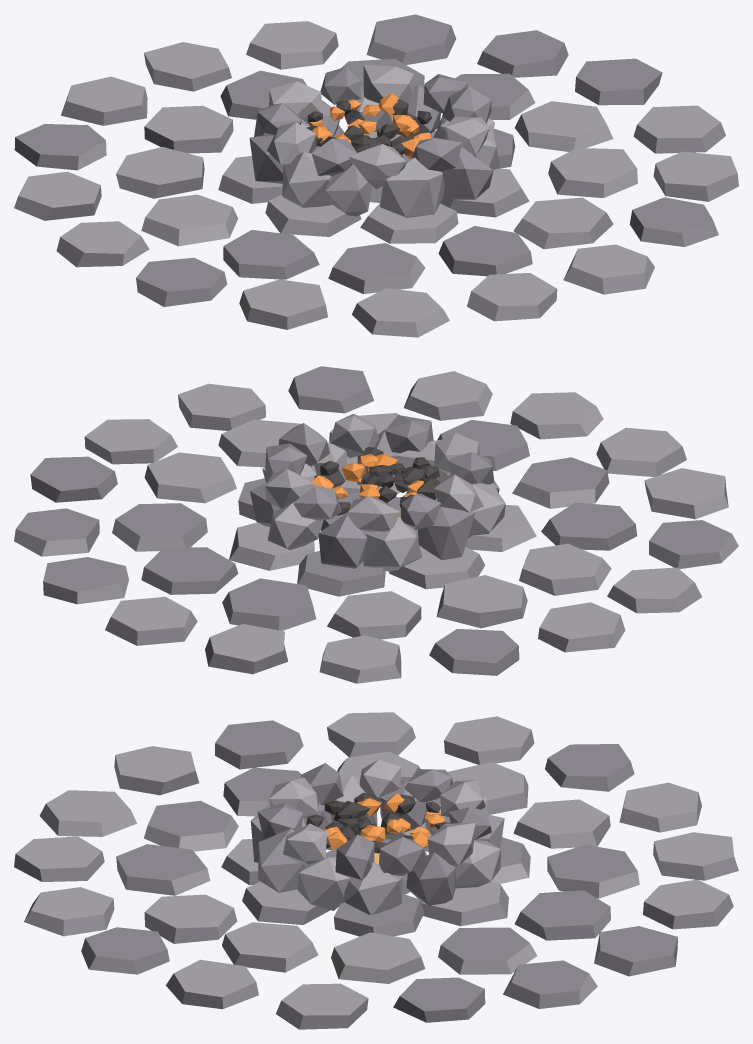
Rendered from forge.glb.
3 views of the same model, one above another, from view 1: azimuth 30°, elevation 25°; view 2: azimuth 150°, elevation 25°; view 3: azimuth 270°, elevation 25° (orthographic).
Visible parts, largest first — view 1: floor, hearth, embers, coals; view 2: floor, hearth, coals, embers; view 3: floor, hearth, coals, embers.
Part boxes in pixels (x1,y1,x2,y2): floor: (14,14,738,337); hearth: (249,65,499,217); embers: (307,93,431,158); coals: (306,99,431,156); floor: (14,366,738,683); hearth: (250,413,505,571); coals: (314,447,440,515); embers: (311,453,423,506); floor: (14,712,738,1029); hearth: (250,759,504,914); coals: (306,792,450,853); embers: (323,793,445,849).
Size of the model in its own units: 6.19 by 0.8302 by 6.22.
